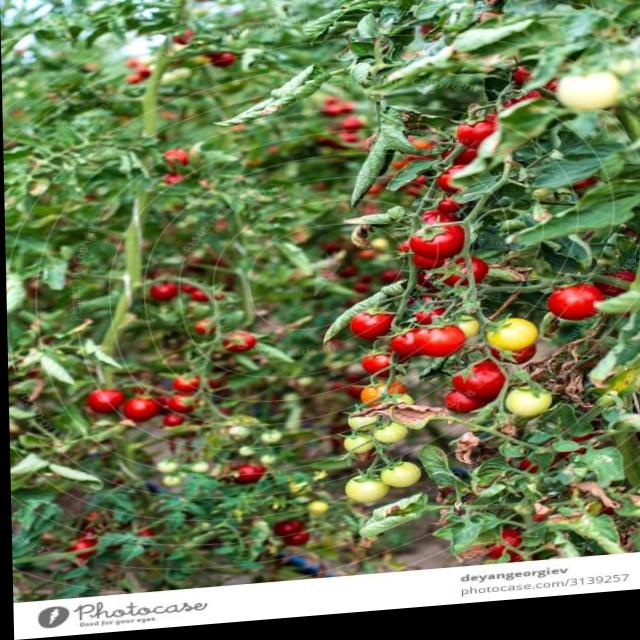kirmizi: (89, 388, 198, 427), (400, 301, 457, 369), (449, 122, 497, 161)
